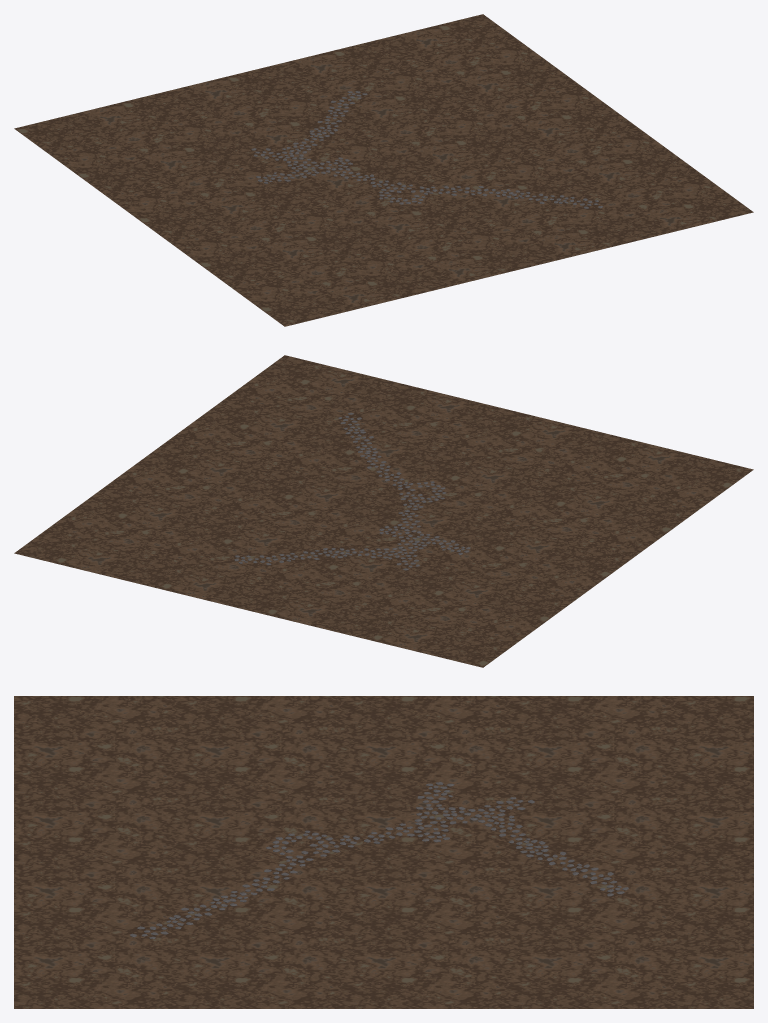
The model's file is Mapa2_Completo_Sin_Vallas2.obj.
3 renders of one model, top to bottom at view 1: azimuth 30°, elevation 25°; view 2: azimuth 150°, elevation 25°; view 3: azimuth 270°, elevation 25°, orthographic. The views are drawn at different scales.
Parts seen in each view (by area): view 1: Plane.007; view 2: Plane.007; view 3: Plane.007.
Boxes of the visible parts, x1,y1,x2,y2 form: Plane.007: (14,14,753,326); Plane.007: (14,355,753,667); Plane.007: (14,696,753,1008).
Bounding box in the file's own units: 122 × 0.2271 × 122.
